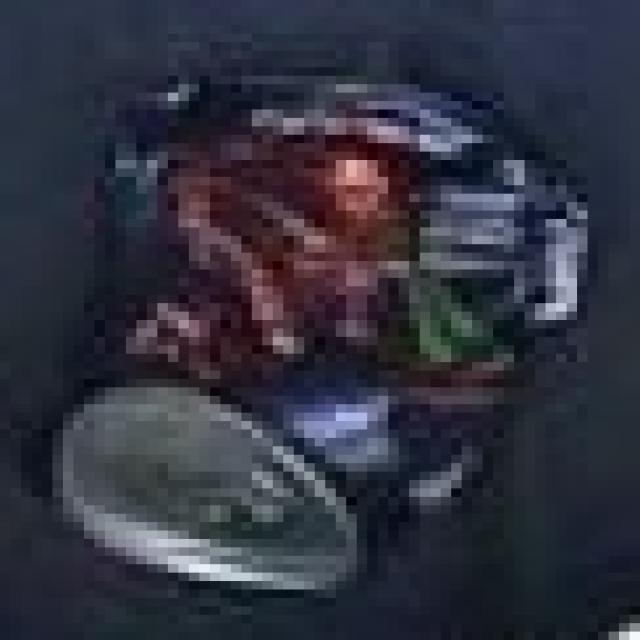can: (3, 77, 608, 609)
